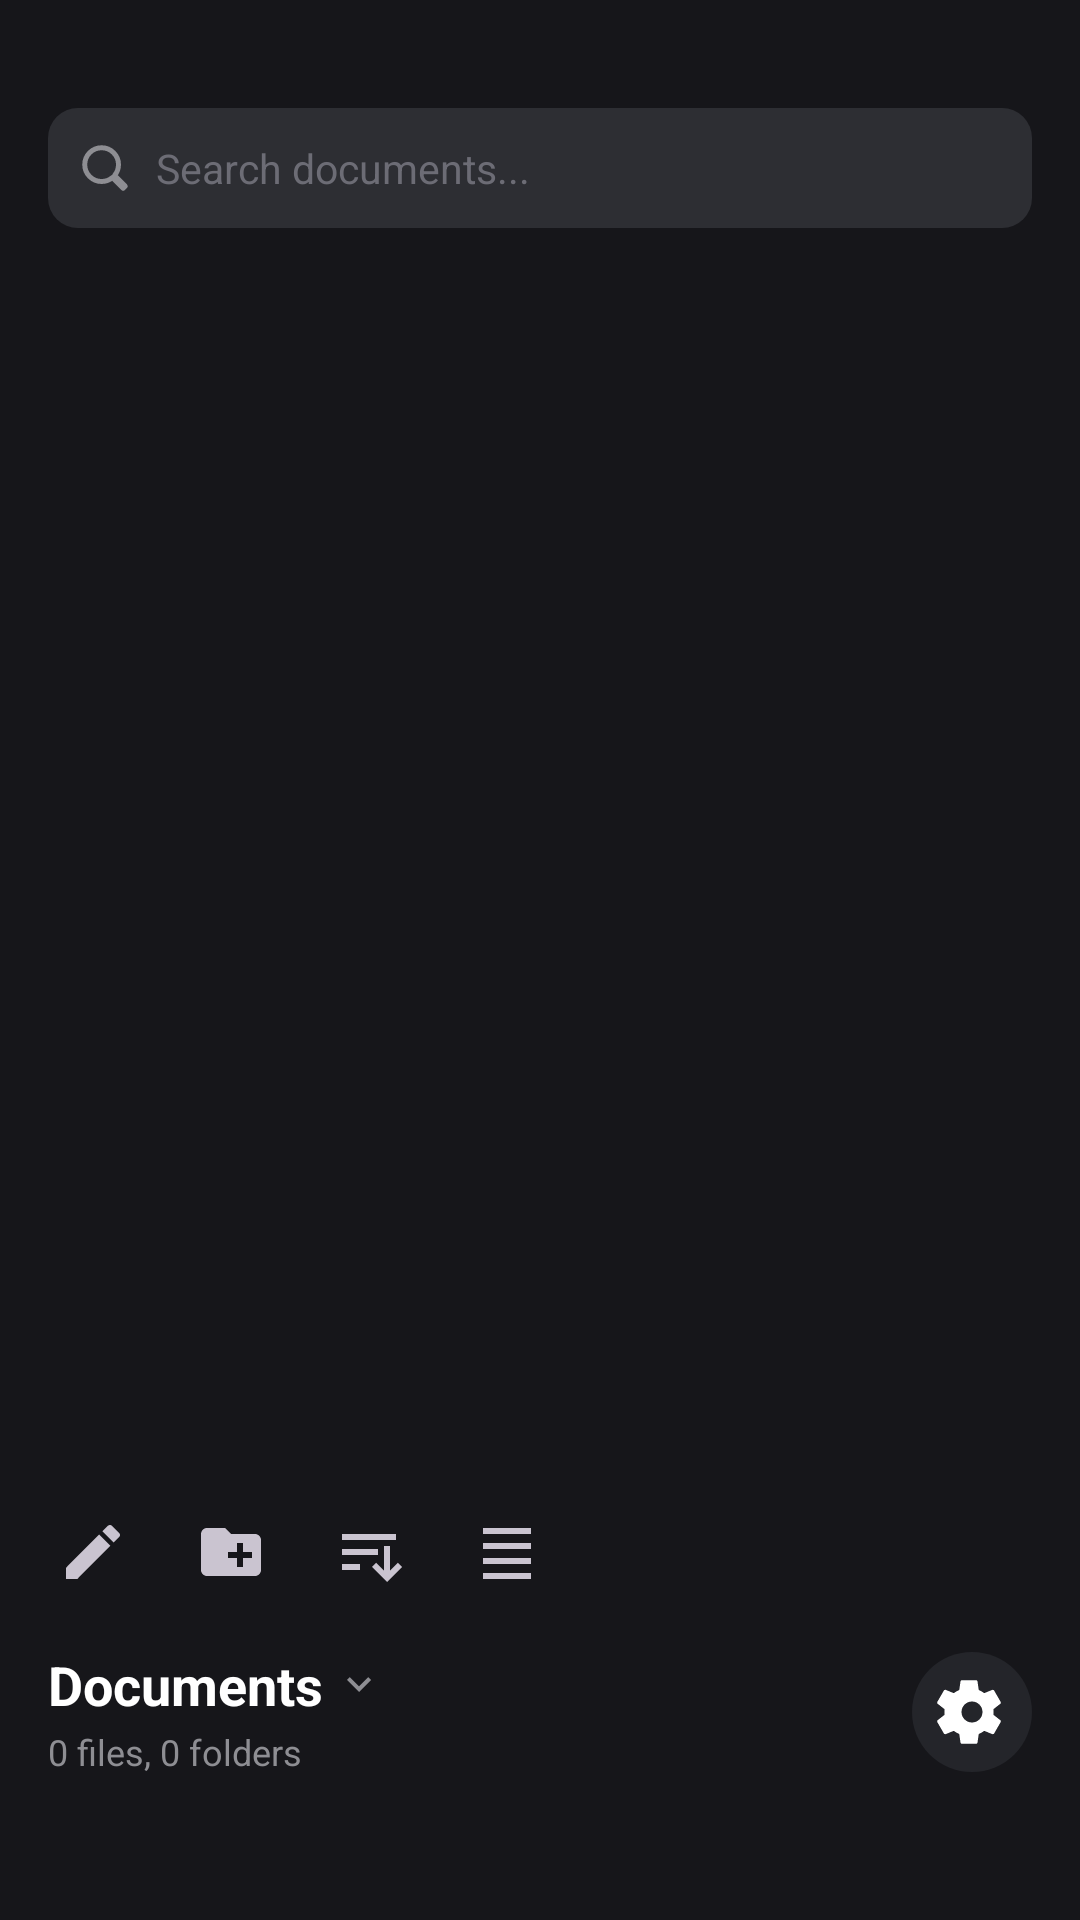

Icon bounding boxes for this 1080 x 1920 phone screenshot, format (x1, y1, x2, y2):
chevron down: (347, 1677, 371, 1692)
New Folder: (201, 1528, 261, 1576)
New Note / From Link: (66, 1525, 120, 1579)
Sort Order: (342, 1534, 402, 1582)
Vault Settings: (937, 1680, 1001, 1744)
